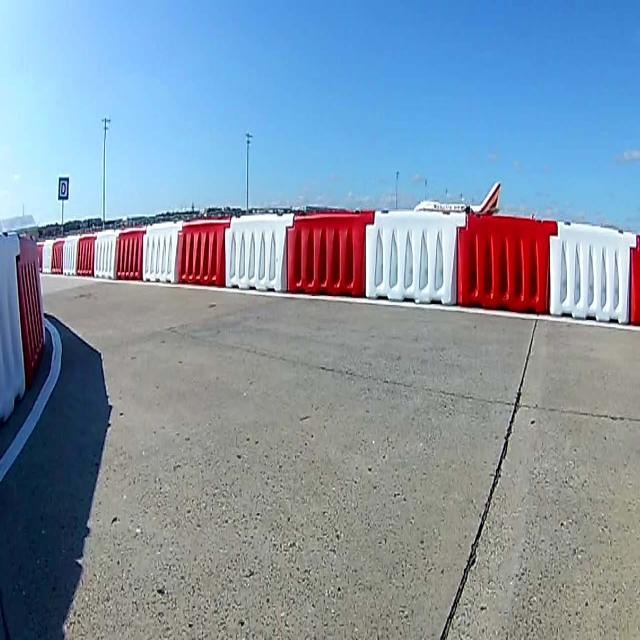durak: (58, 178, 68, 200)
